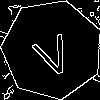V: (27, 24, 77, 80)
